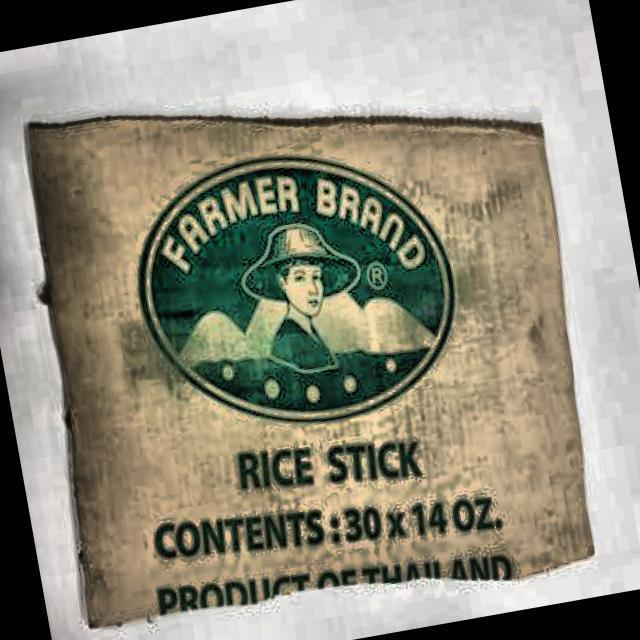cardboard: (0, 37, 621, 640)
